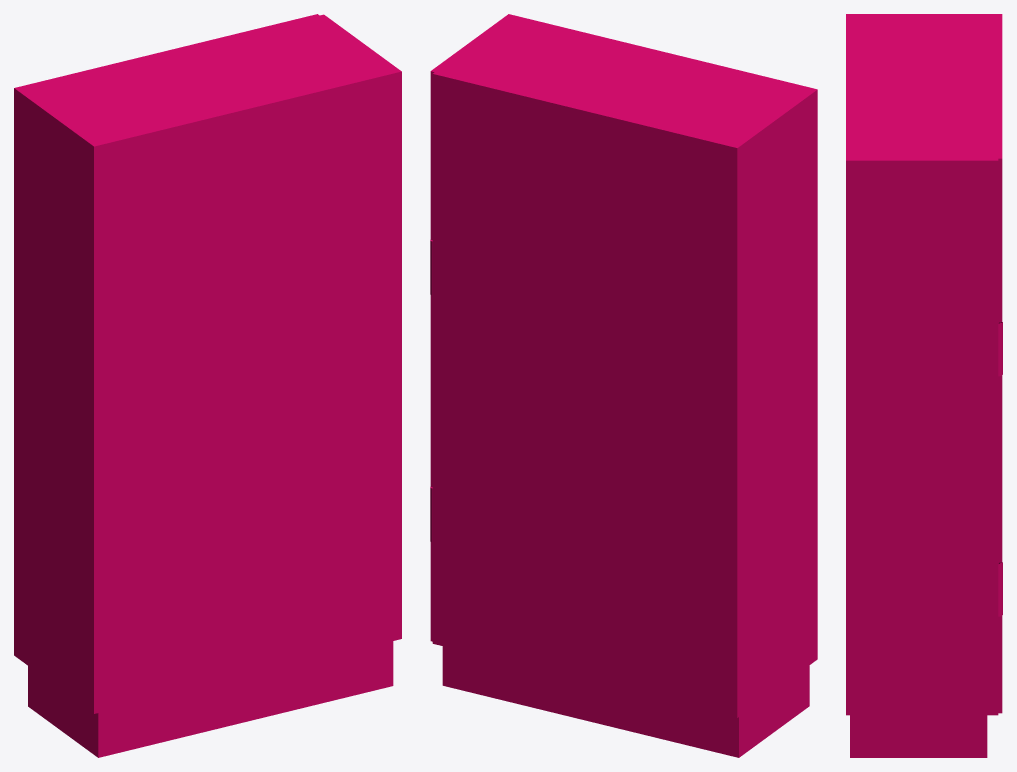
Rendered from Electrical_Enclosure_Lod0.fbx.
3 renders of one model, left to right at view 1: azimuth 30°, elevation 25°; view 2: azimuth 150°, elevation 25°; view 3: azimuth 270°, elevation 25°, orthographic. The views are drawn at different scales.
Visible parts, largest first — view 1: Electrical_Enclosure_Lod0; view 2: Electrical_Enclosure_Lod0; view 3: Electrical_Enclosure_Lod0.
Part boxes in pixels (x1,y1,x2,y2): Electrical_Enclosure_Lod0: [14, 14, 401, 757]; Electrical_Enclosure_Lod0: [430, 14, 817, 757]; Electrical_Enclosure_Lod0: [846, 14, 1002, 757].
Bounding box in the file's own units: 101 × 192 × 45.42.
